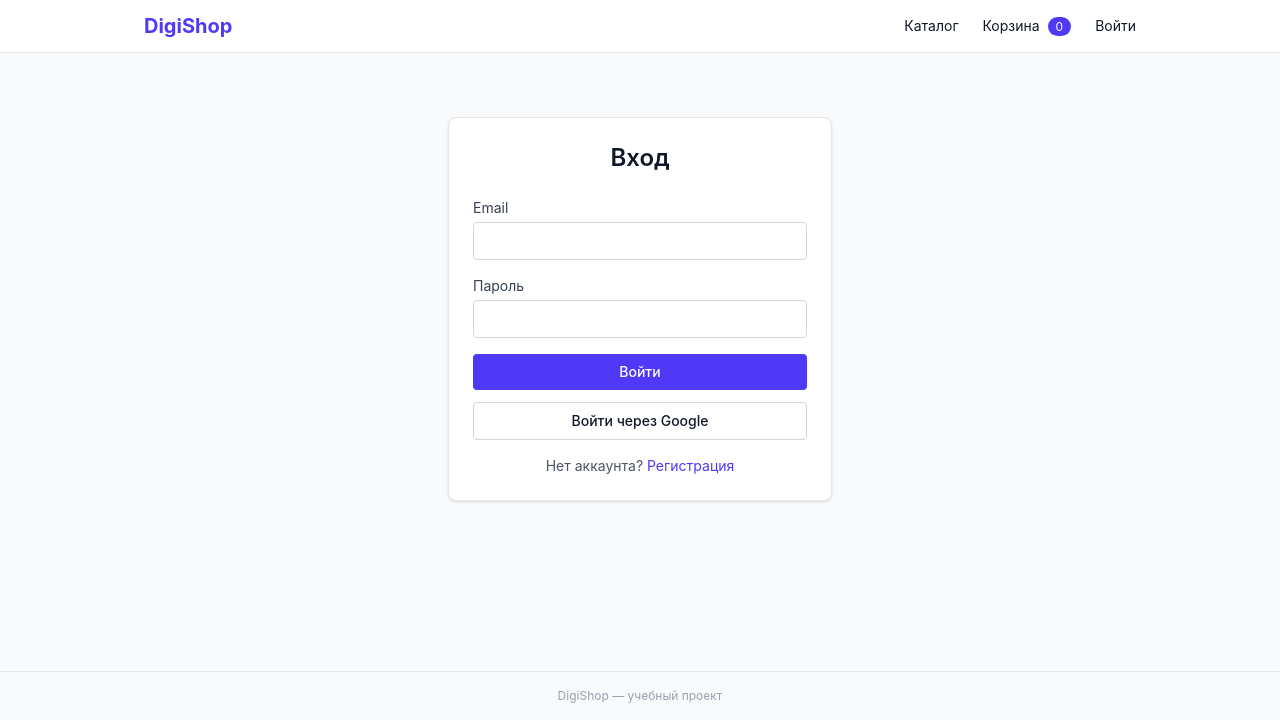
Test case: логин с 401 показывает текст ошибки
Type "user@example.com" into the field labelled "Email" at (640, 241), box [473,222,807,260]
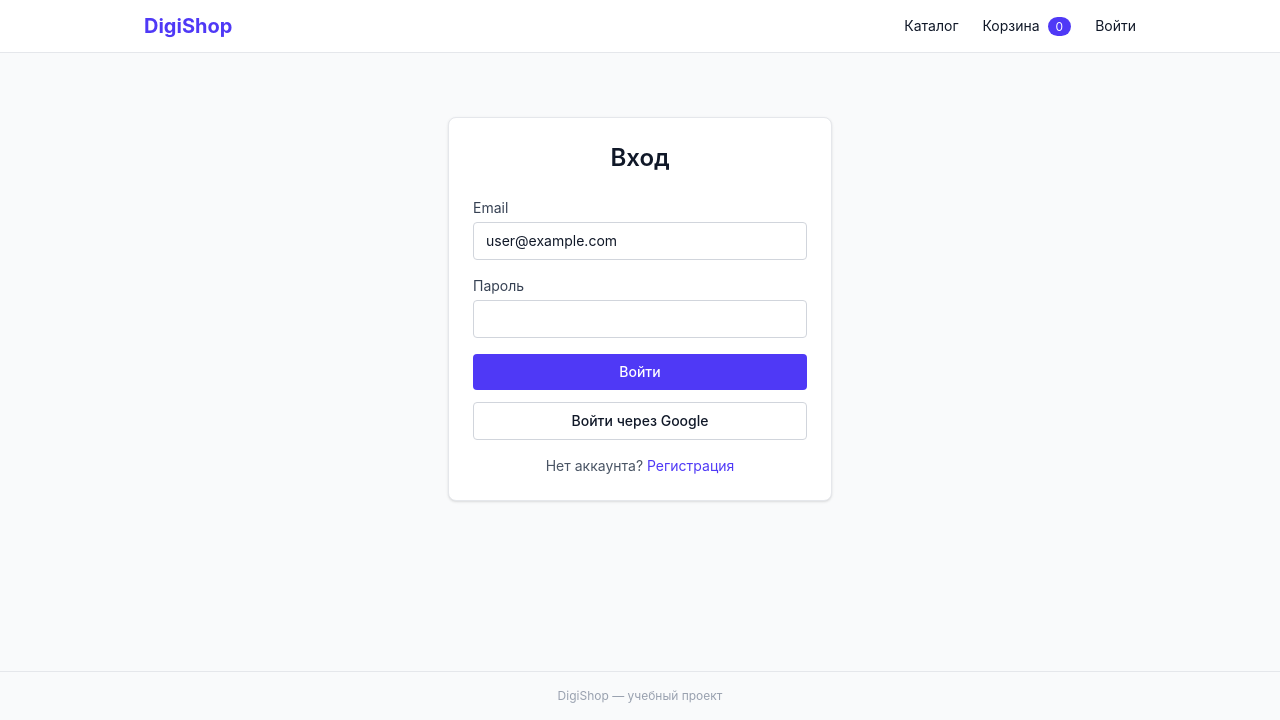
Type "wrongpass" into the password field labelled "Пароль" at (640, 319), box [473,300,807,338]
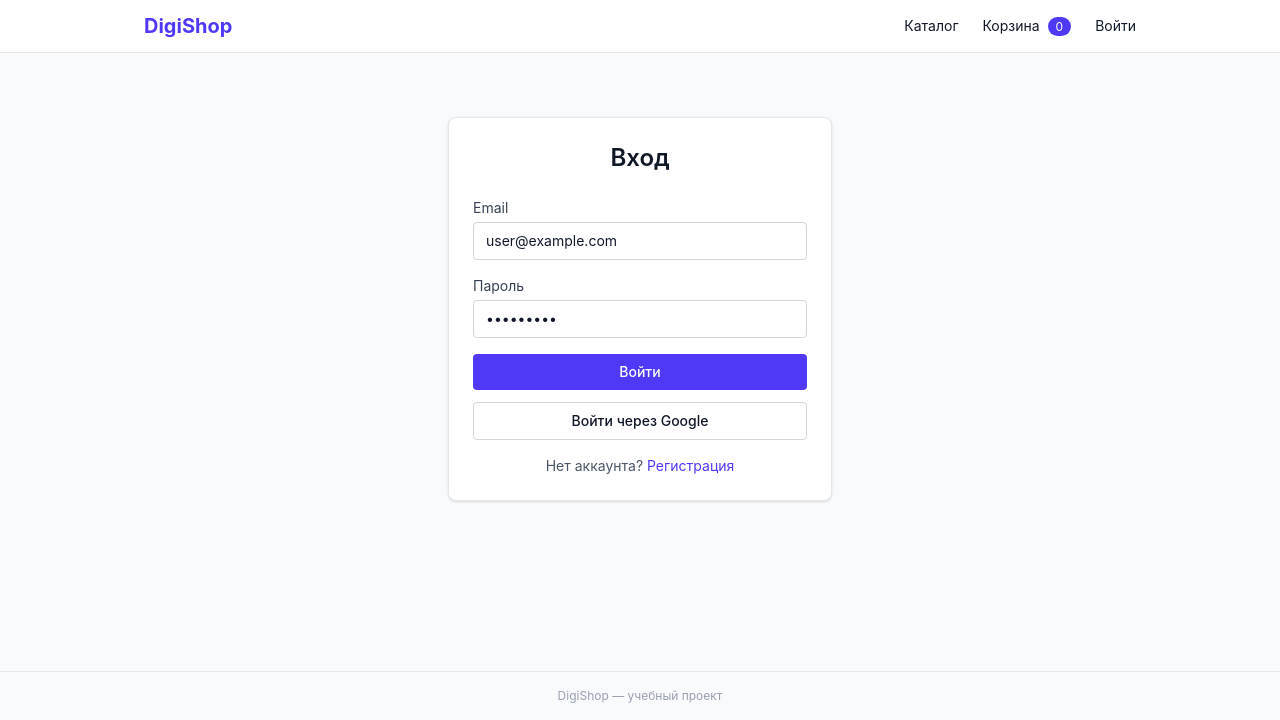
Click the button "Войти" at (640, 372), box [473,354,807,390]
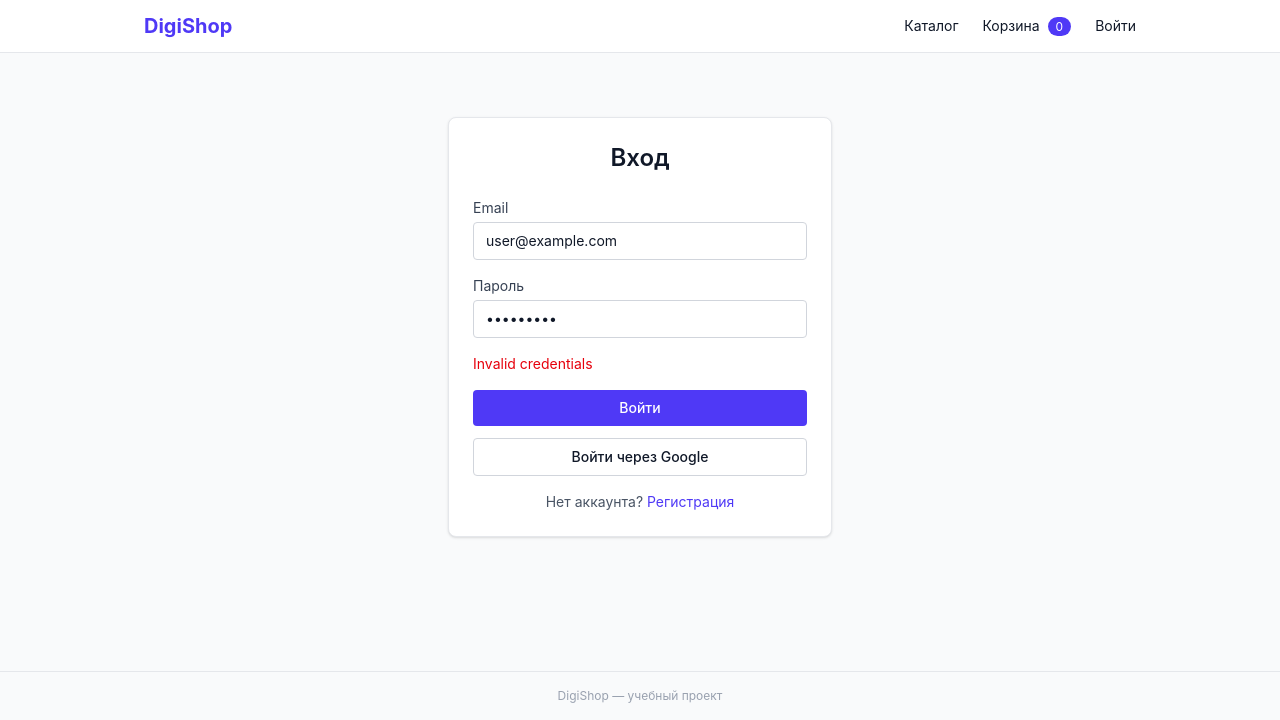
Result: the text "Invalid credentials" is shown at [473,355,593,372]
